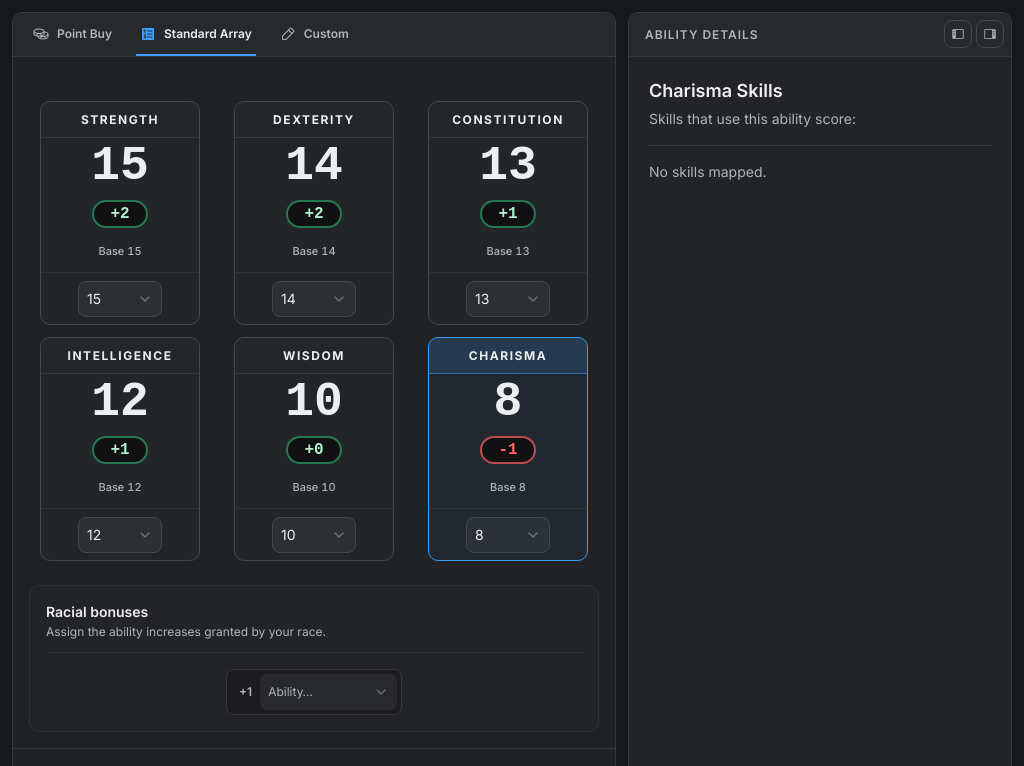
Builder edits refreshed exact ability rules and Sources through Save/reopen (child: false)
Click the dropdown labelled "Ability…" at (329, 692), box [260, 674, 397, 710]
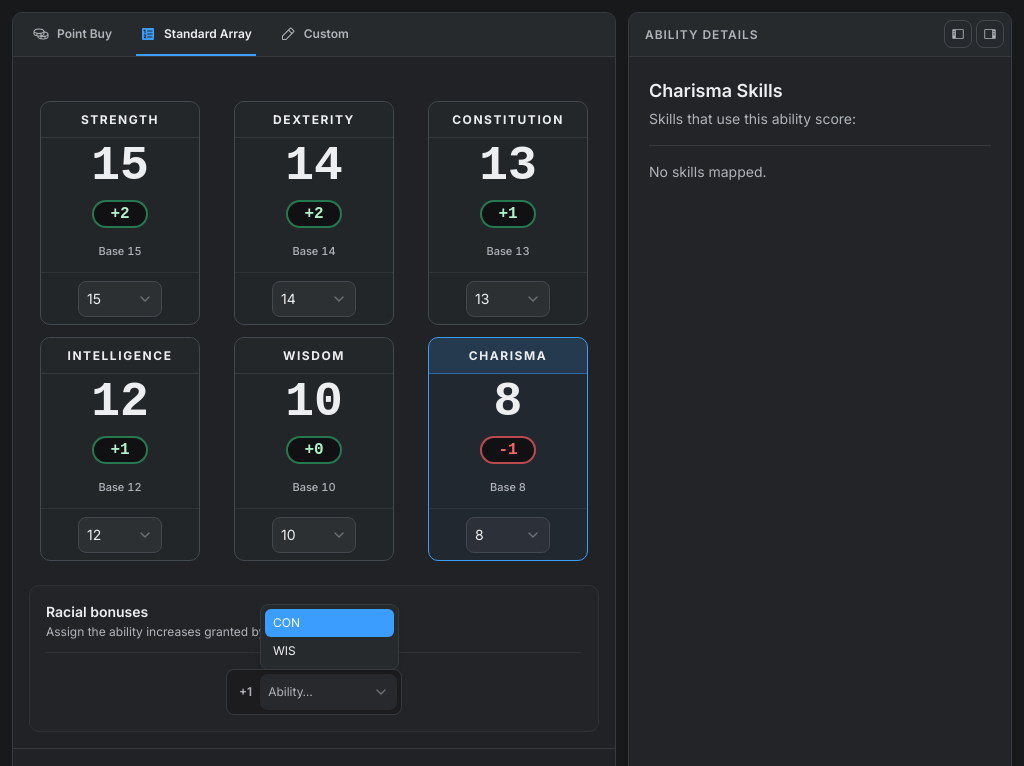
Click the option "WIS" at (284, 650), box [273, 643, 296, 658]
(page scrolled)
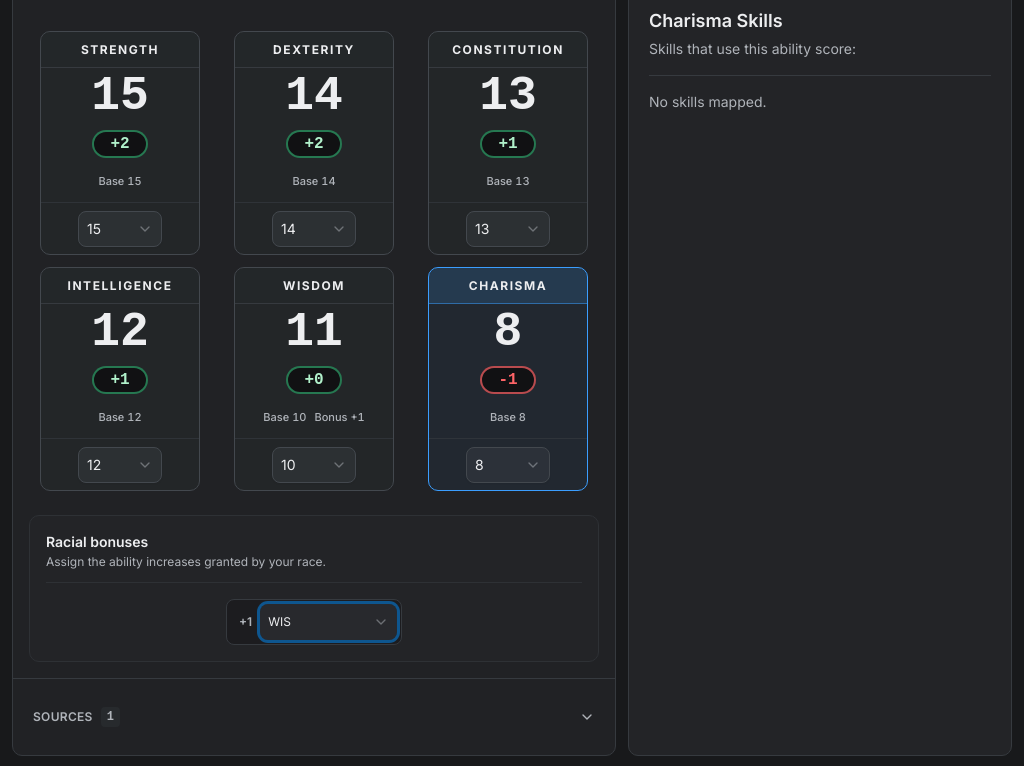
Click the button "Sources 1" at (63, 716), box [29, 695, 599, 739]
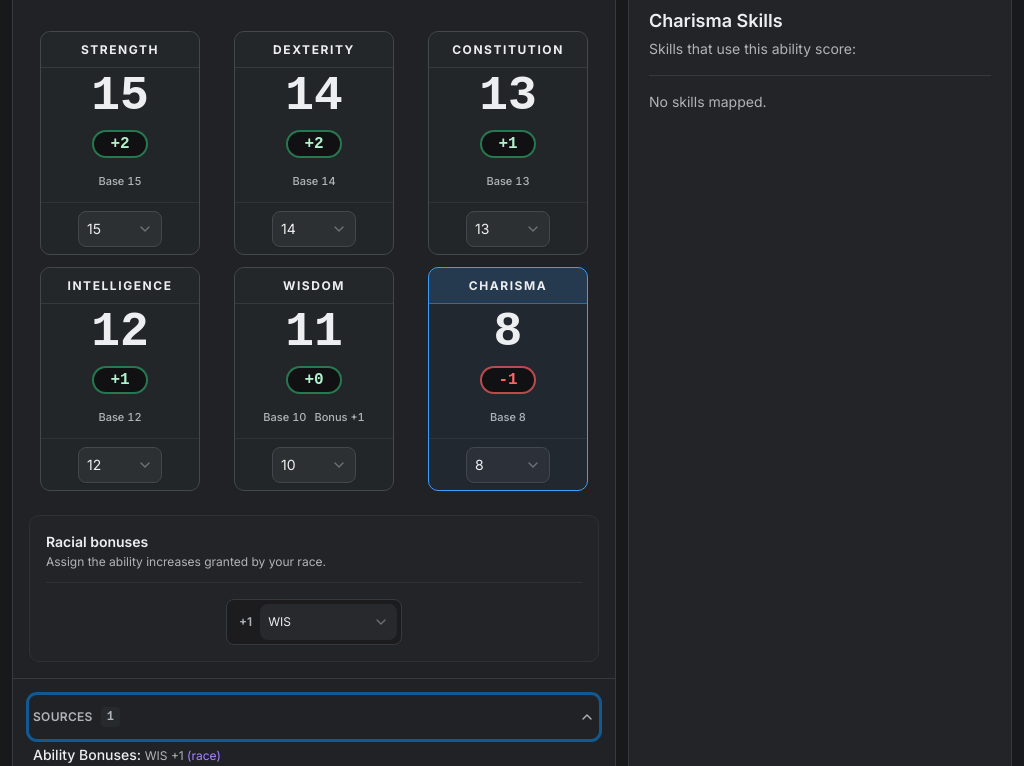
Expected: the text "WIS +1" is shown, [145, 748, 184, 763]
